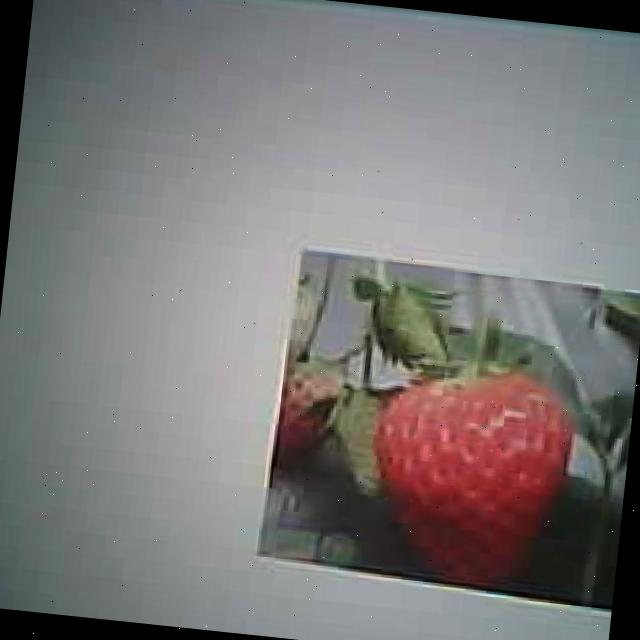strawberry: (360, 361, 574, 599)
